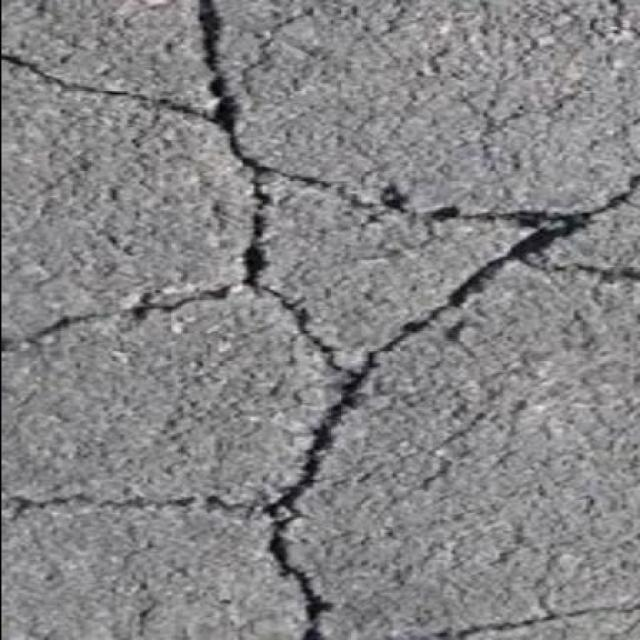Crack: (1, 0, 640, 640), (7, 494, 196, 520), (501, 590, 611, 624), (332, 185, 408, 212), (34, 315, 91, 338), (434, 626, 494, 640)
